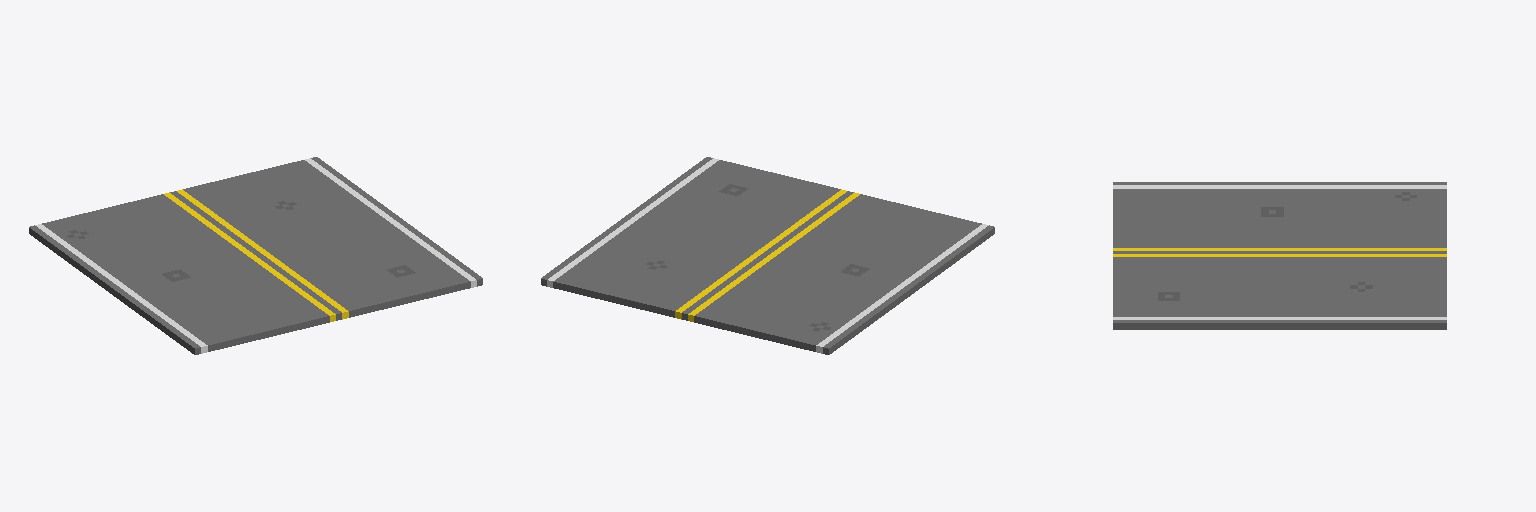
3 renders of one model, left to right at view 1: azimuth 30°, elevation 25°; view 2: azimuth 150°, elevation 25°; view 3: azimuth 270°, elevation 25°, orthographic.
Parts seen in each view (by area): view 1: Box_79; view 2: Box_79; view 3: Box_79.
Part boxes in pixels (bbox=[...]): Box_79: bbox=[29, 157, 482, 354]; Box_79: bbox=[541, 157, 994, 354]; Box_79: bbox=[1113, 182, 1446, 329].
Bounding box in the file's own units: 45 × 1 × 45.
Materials: 1 (1 with a texture image).